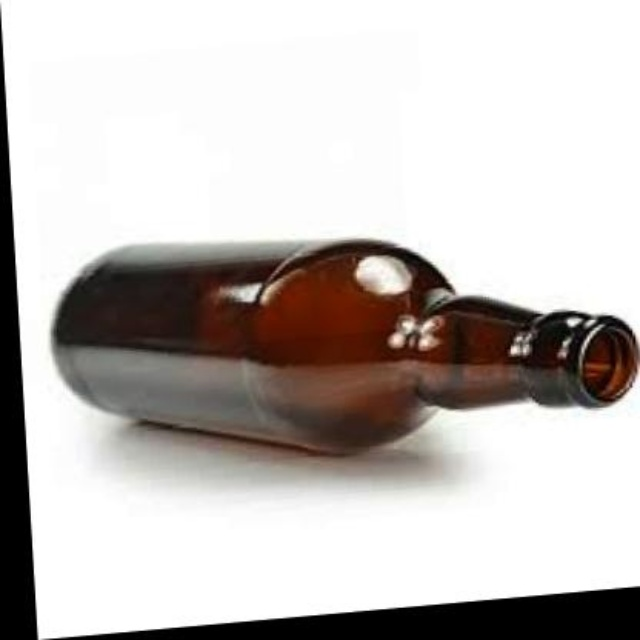trash: (54, 240, 637, 452)
